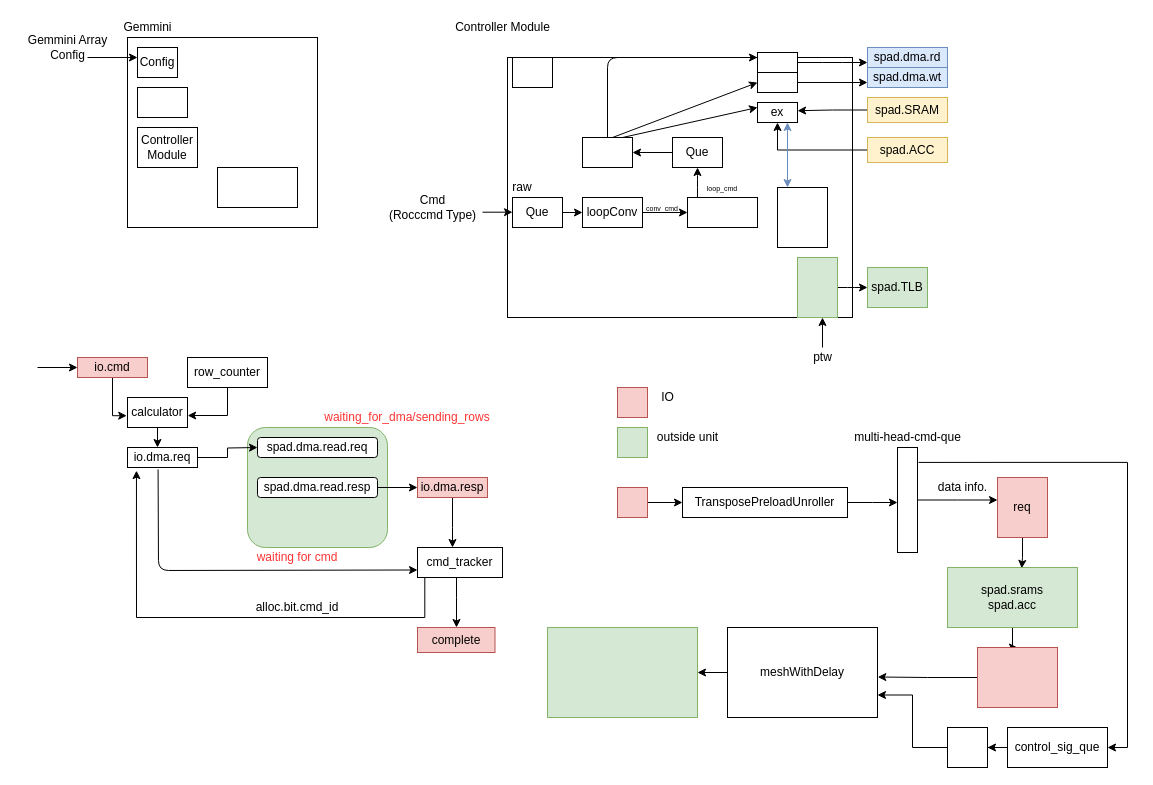
The diagram is 1153 pixels wide and 785 high, and some of its shapes have lost their labels. The centre of each missing label's shape, as x and y in pixels:
"clock" belongs at pixel 532 72.
"cmd" belongs at pixel 632 502.
"ctl" belongs at pixel 967 747.
"im2col" belongs at pixel 802 217.
"ld" belongs at pixel 777 62.
"loopMatmul" belongs at pixel 722 212.
"node" belongs at pixel 162 102.
"resp" belongs at pixel 1017 677.
"ROB" belongs at pixel 607 152.
"Spad" belongs at pixel 257 187.
"spad.srams.write spad.acc.write" belongs at pixel 622 672.
"st" belongs at pixel 777 82.
"TLB" belongs at pixel 817 287.
